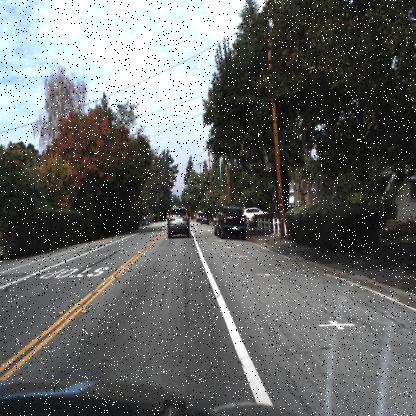car: (163, 201, 197, 245), (217, 201, 249, 245), (241, 203, 270, 221), (138, 211, 152, 230)
